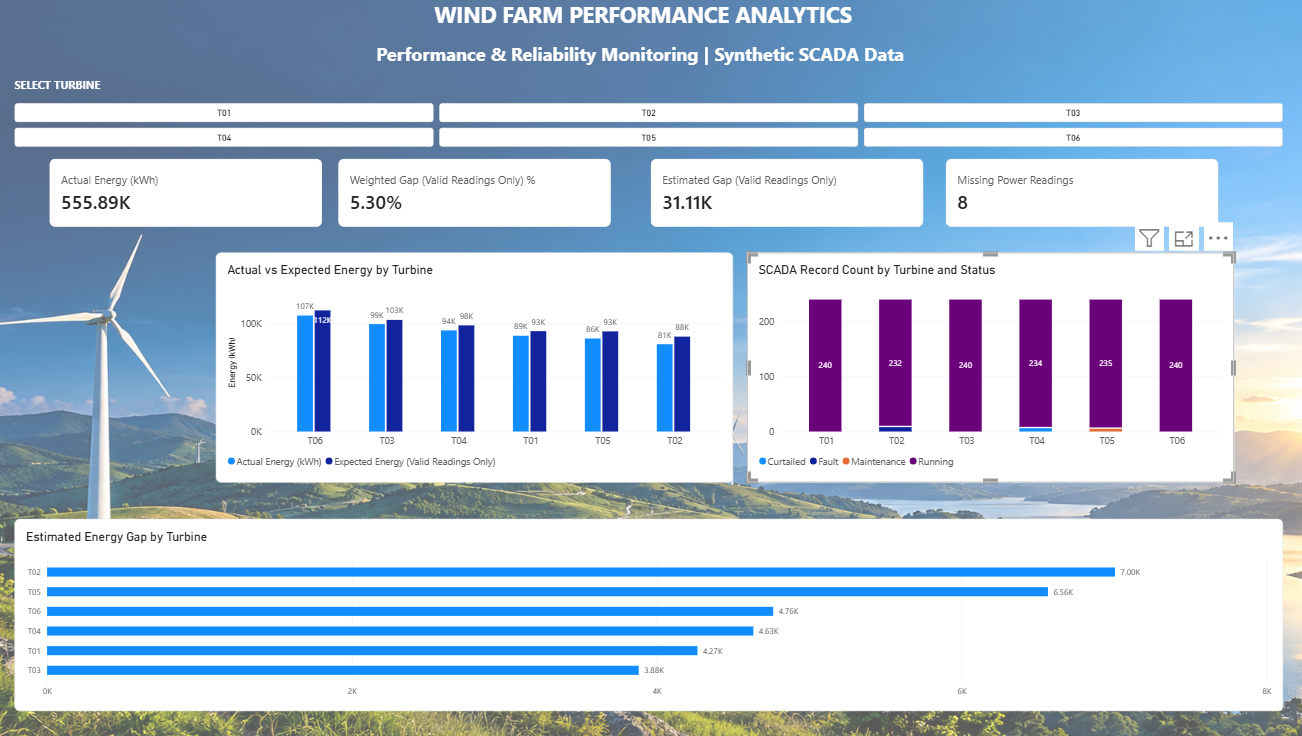

This screenshot's page, from the dashboard's own definition file:
{"tool":"powerbi","page":{"name":"Page 1","canvas":[1920,1080],"ordinal":0},"visuals":[{"type":"cardVisual","fields":{"Data":["event_log.Missing Power Readings"]},"box":[1392.2,232.9,400,100],"z":0},{"type":"cardVisual","fields":{"Data":["event_log.Actual Energy (kWh)"]},"box":[77,232.9,400,100],"z":1000},{"type":"clusteredColumnChart","title":"Actual vs Expected Energy by Turbine","fields":{"Category":["scada_analysis_output.turbine_id"],"Y":["event_log.Actual Energy (kWh)","event_log.Expected Energy (Valid Readings Only)"]},"box":[321,370.5,759.4,337.5],"z":2000},{"type":"clusteredBarChart","title":"Estimated Energy Gap by Turbine","fields":{"Category":["scada_analysis_output.turbine_id"],"Y":["event_log.Estimated Gap (Valid Readings Only)"]},"box":[25.7,761.2,1861.8,282.5],"z":3000},{"type":"columnChart","title":"SCADA Record Count by Turbine and Status","fields":{"Category":["scada_analysis_output.turbine_id"],"Y":["CountNonNull(scada_analysis_output.timestamp)"],"Series":["scada_analysis_output.status"]},"box":[1100.5,370.5,715.4,337.5],"z":4000},{"type":"cardVisual","fields":{"Data":["event_log.Weighted Gap (Valid Readings Only) %"]},"box":[500.7,232.9,400,100],"z":5000},{"type":"cardVisual","fields":{"Data":["event_log.Estimated Gap (Valid Readings Only)"]},"box":[959.3,232.9,400,100],"z":6000},{"type":"textbox","box":[476.9,0,933.6,163.2],"z":7000},{"type":"advancedSlicerVisual","title":"SELECT TURBINE","fields":{"Values":["scada_analysis_output.turbine_id"]},"box":[25.7,113.7,1861.8,102.7],"z":8000}]}

Visuals, with their boxes in screenshot pixels (x1, y1, x2, y2), scaled from the page's 1920x1080 canvas onto the 1302x736 screenshot:
cardVisual - event_log.Missing Power Readings: {"left": 944, "top": 159, "right": 1215, "bottom": 227}
cardVisual - event_log.Actual Energy (kWh): {"left": 52, "top": 159, "right": 323, "bottom": 227}
"Actual vs Expected Energy by Turbine" clusteredColumnChart: {"left": 218, "top": 252, "right": 733, "bottom": 482}
"Estimated Energy Gap by Turbine" clusteredBarChart: {"left": 17, "top": 519, "right": 1280, "bottom": 711}
"SCADA Record Count by Turbine and Status" columnChart: {"left": 746, "top": 252, "right": 1231, "bottom": 482}
cardVisual - event_log.Weighted Gap (Valid Readings Only) %: {"left": 340, "top": 159, "right": 611, "bottom": 227}
cardVisual - event_log.Estimated Gap (Valid Readings Only): {"left": 651, "top": 159, "right": 922, "bottom": 227}
textbox: {"left": 323, "top": 0, "right": 956, "bottom": 111}
"SELECT TURBINE" advancedSlicerVisual: {"left": 17, "top": 77, "right": 1280, "bottom": 147}
